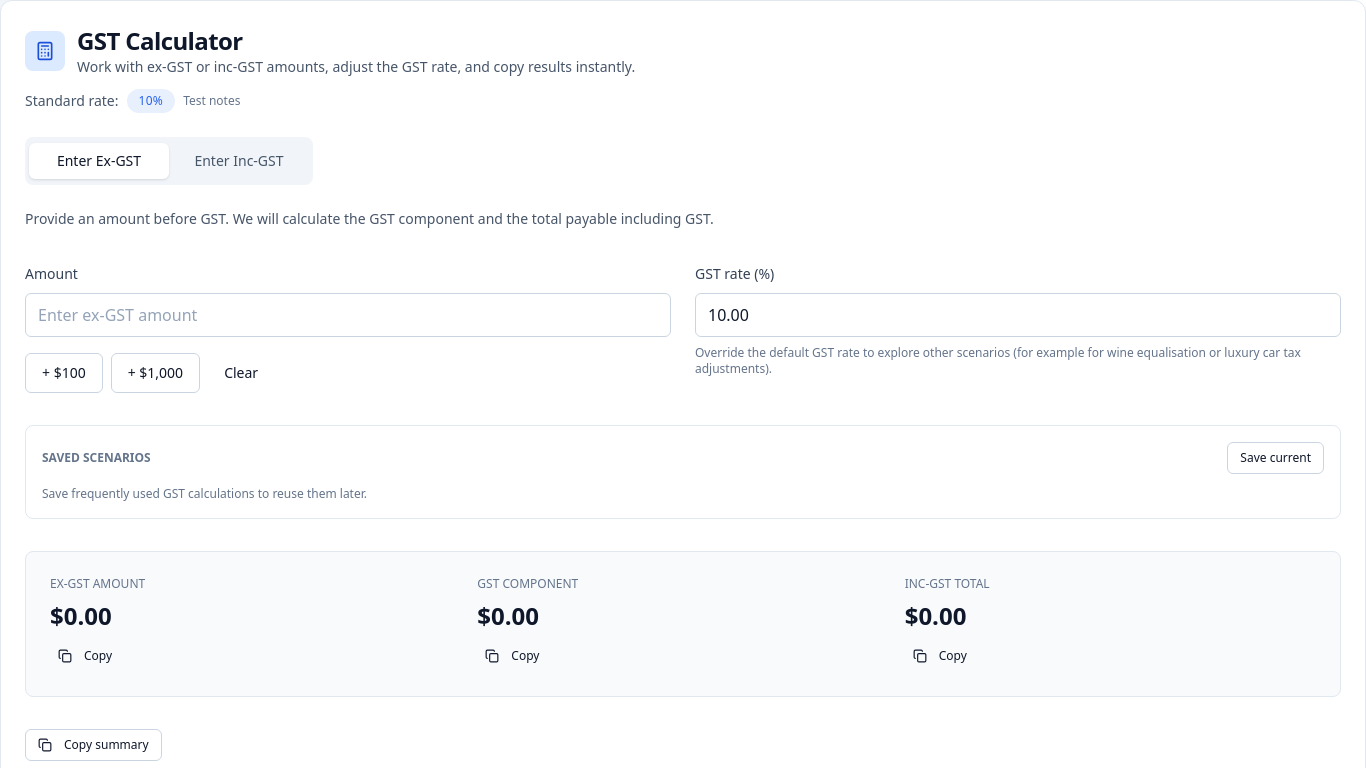
Test: GstCalculator › calculates GST correctly for exclusive amount
The width and height of the screenshot is (1366, 768).
Step 1. Type "100" into the field labelled "Amount" → (348, 315), box left=25, top=293, right=671, bottom=337
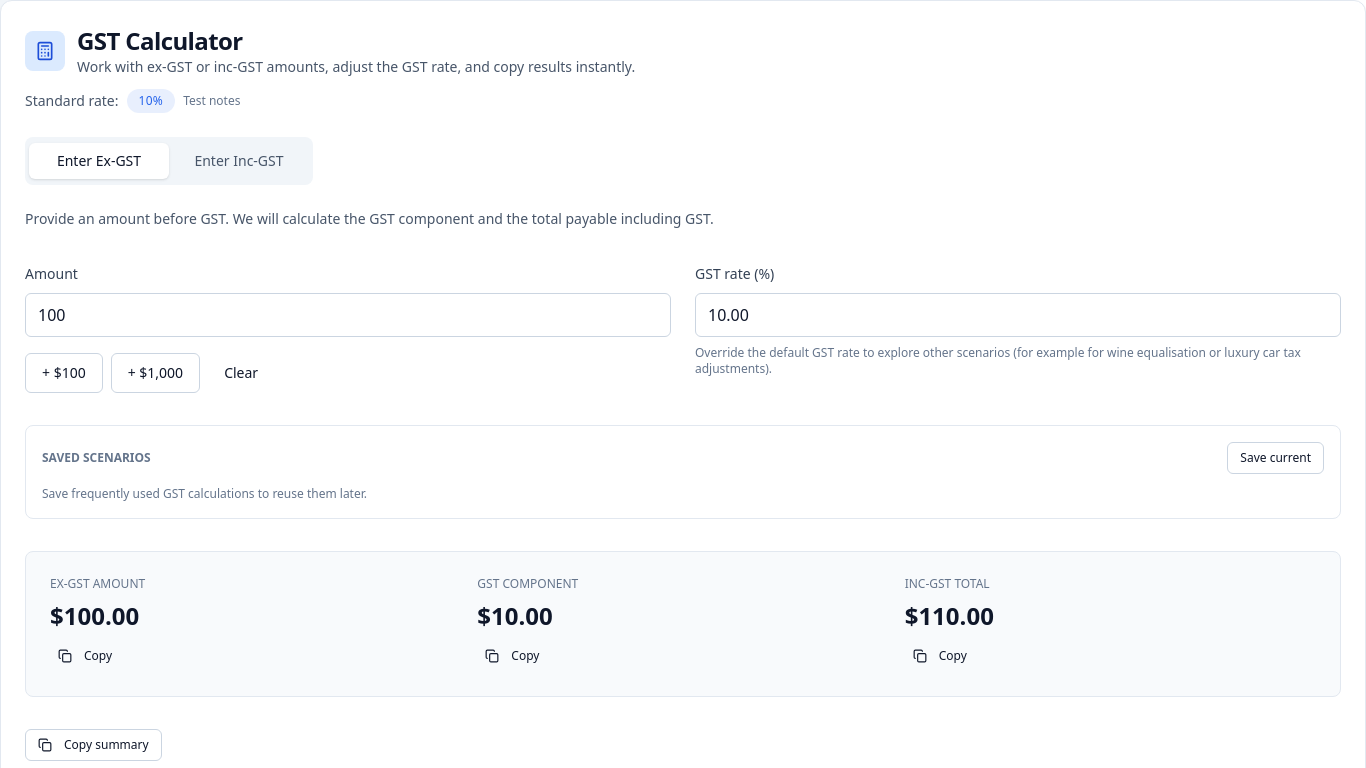
Now the text "$100.00" is shown, box left=50, top=599, right=139, bottom=632
Now the text "$10.00" is shown, box left=477, top=599, right=553, bottom=632
Now the text "$110.00" is shown, box left=905, top=599, right=994, bottom=632
